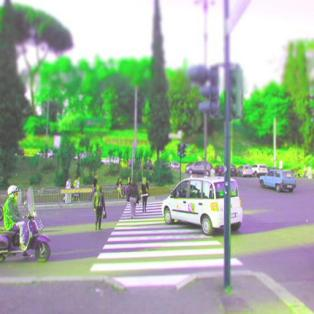Paso de Cebra: (92, 240, 229, 260), (112, 218, 200, 231)
